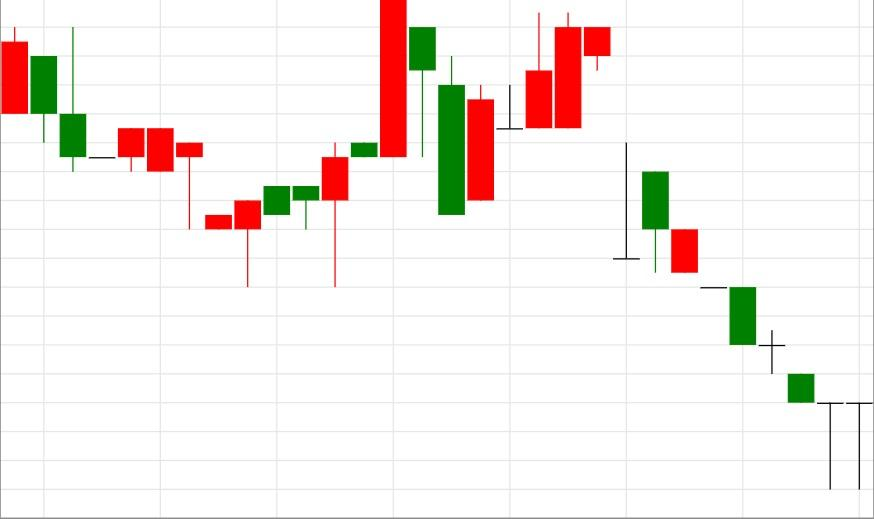hammer_rise: (0, 26, 263, 287)
hanging_man_fall: (205, 0, 437, 287)
